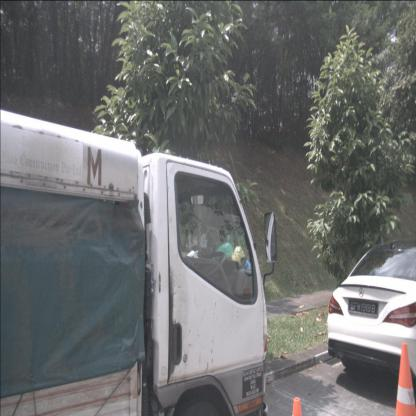movable_object-trafficcone: (394, 342, 416, 416), (291, 394, 303, 416)
vehicle-car: (327, 236, 415, 401)
vehicle-truck: (0, 110, 268, 416)
